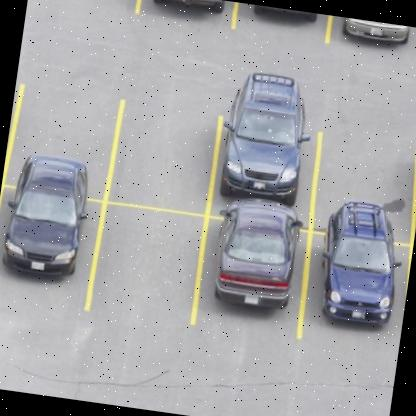Car: (220, 65, 314, 201), (318, 204, 412, 334), (7, 158, 94, 282), (210, 200, 300, 318), (342, 17, 414, 48)
Empty: (94, 203, 204, 337), (122, 94, 219, 208), (321, 123, 416, 205), (23, 87, 107, 163)
